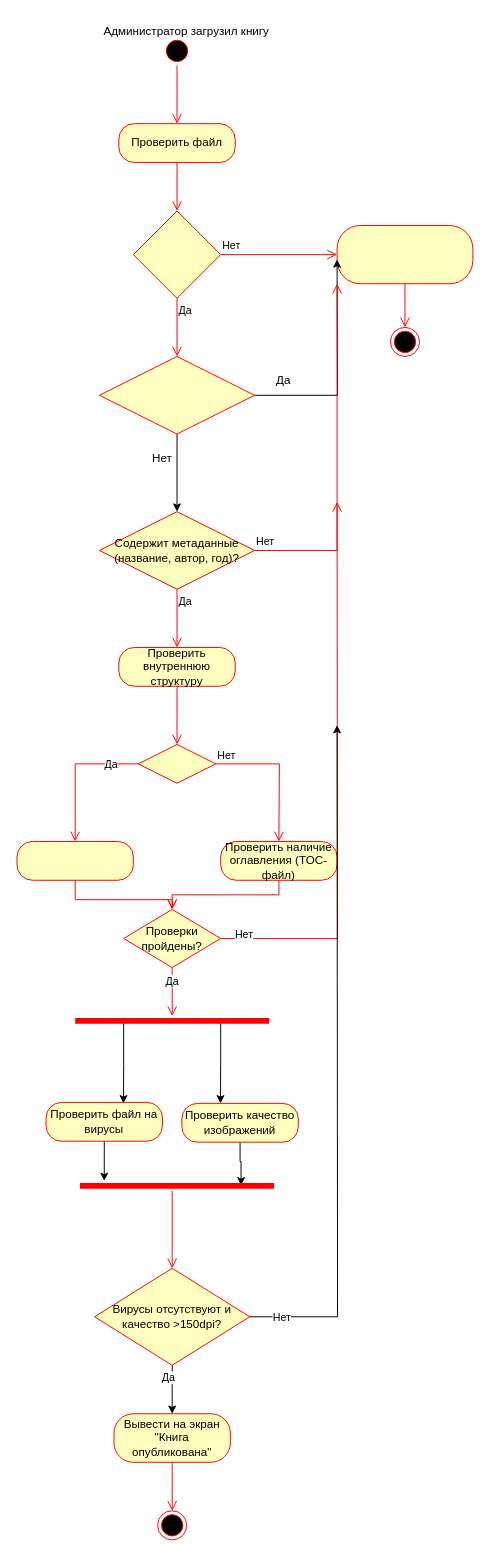
The diagram is 490 pixels wide and 1557 high, and some of its shapes have lost their labels. The shapes that lost their labels are listed below. From the top down, each one's centre as x and y in pixels, then its label:
(176,254): Формат верный? (PDF/EPUB)
(404,254): Вывести сообщение "Некорректный файл"
(176,395): Размер файла больше 50Мб ?
(176,763): PDF файл?
(74,860): Проверить наличие оглавления
